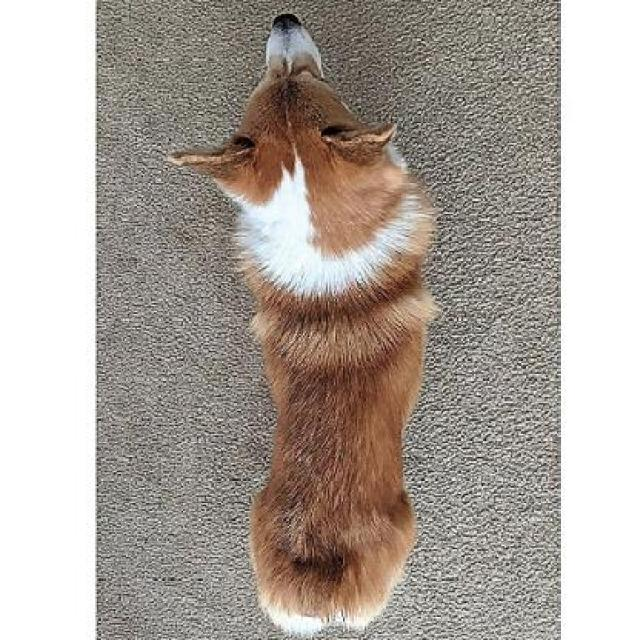Dog: (157, 14, 449, 632)
